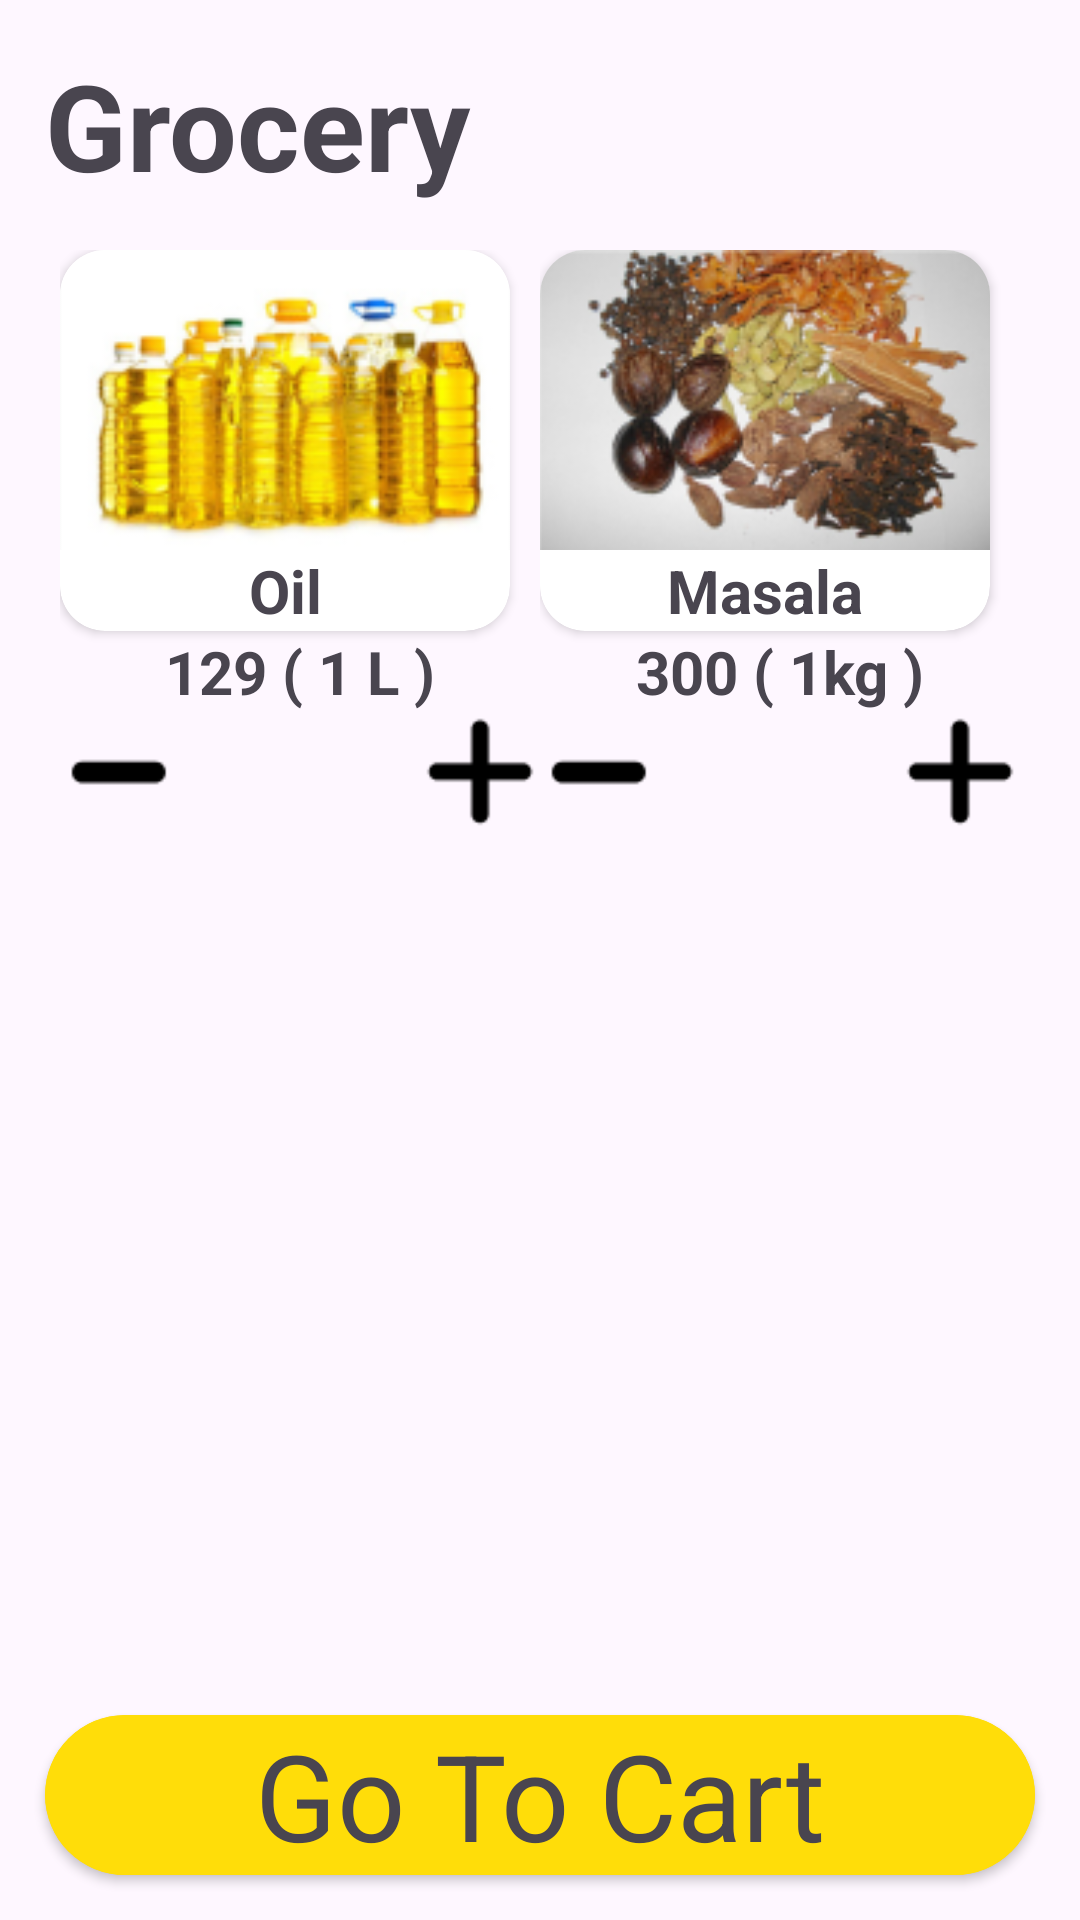

Named icons in this screenshot (1080*1920) and their bounding boxes, (x1, y1, x2, y2):
add: (427, 719, 533, 825), (907, 719, 1013, 825)
minus: (71, 760, 167, 785), (551, 760, 647, 785)
